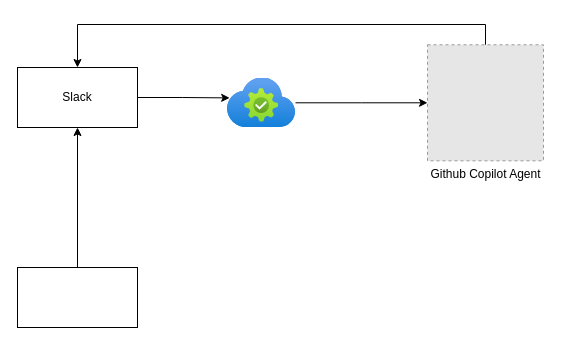
This 561x345 diagram has some shape labels left out. Grey dashed boxes stand in for pictures. The centre of each missing label's shape, as x and y in pixels:
"Datadog" goes at [77,297].
"Slack AI Fraud Assitance" goes at [261,102].
